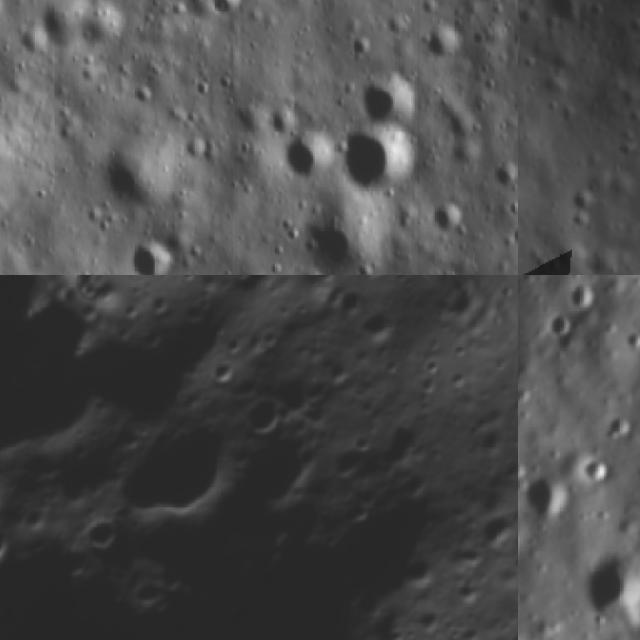crater: (97, 389, 257, 551), (332, 125, 421, 203), (97, 130, 175, 218), (574, 541, 640, 630), (296, 207, 378, 275), (352, 75, 426, 133), (518, 466, 580, 525), (24, 7, 86, 64), (68, 0, 128, 58), (277, 126, 332, 188), (355, 300, 409, 354), (395, 542, 449, 596), (76, 506, 130, 560), (416, 16, 471, 67), (469, 500, 518, 557), (245, 388, 296, 439), (122, 237, 182, 275), (410, 593, 456, 640), (426, 200, 471, 243), (123, 574, 168, 615), (450, 571, 492, 613), (394, 466, 436, 508), (54, 464, 96, 506), (329, 442, 370, 484), (331, 284, 370, 323), (154, 560, 194, 598), (578, 447, 613, 490), (559, 275, 602, 310), (321, 354, 358, 391), (601, 407, 638, 442), (207, 355, 241, 391), (476, 422, 510, 456), (346, 496, 380, 530), (372, 615, 415, 640), (204, 0, 245, 26), (546, 304, 576, 339), (490, 160, 518, 196), (93, 275, 125, 306), (316, 526, 348, 557), (220, 329, 251, 360), (0, 522, 18, 575), (20, 504, 50, 534), (448, 364, 477, 394), (446, 336, 476, 364), (257, 323, 285, 351), (147, 291, 175, 318), (380, 354, 407, 381), (421, 352, 447, 378), (120, 300, 144, 323), (292, 299, 316, 321), (351, 275, 394, 286), (224, 275, 260, 286), (177, 275, 204, 288), (509, 223, 518, 258)
